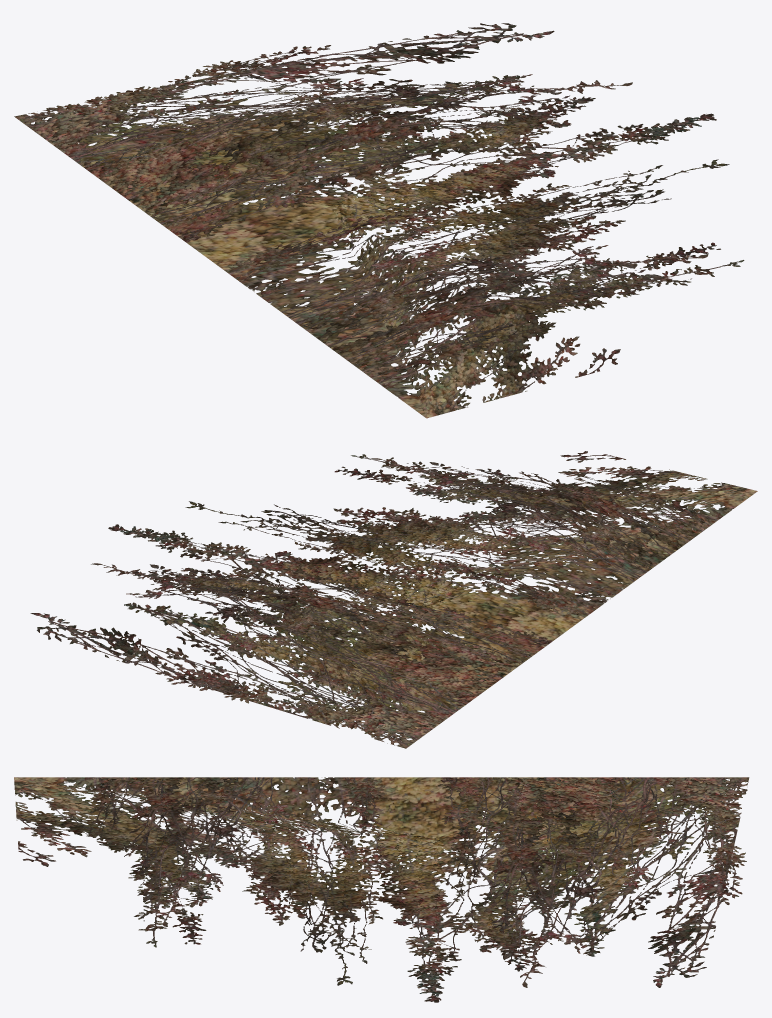
The model's file is vine1.fbx.
The picture shows the model from 3 angles, top to bottom: view 1: azimuth 30°, elevation 25°; view 2: azimuth 150°, elevation 25°; view 3: azimuth 270°, elevation 25°; orthographic projection. The views are drawn at different scales.
Parts seen in each view (by area): view 1: vine_01.object; view 2: vine_01.object; view 3: vine_01.object.
Boxes of the visible parts, x1,y1,x2,y2 form: vine_01.object: (14, 23, 744, 418); vine_01.object: (30, 451, 757, 748); vine_01.object: (14, 777, 749, 1002).
Bounding box in the file's own units: 300 × 15.33 × 412.
